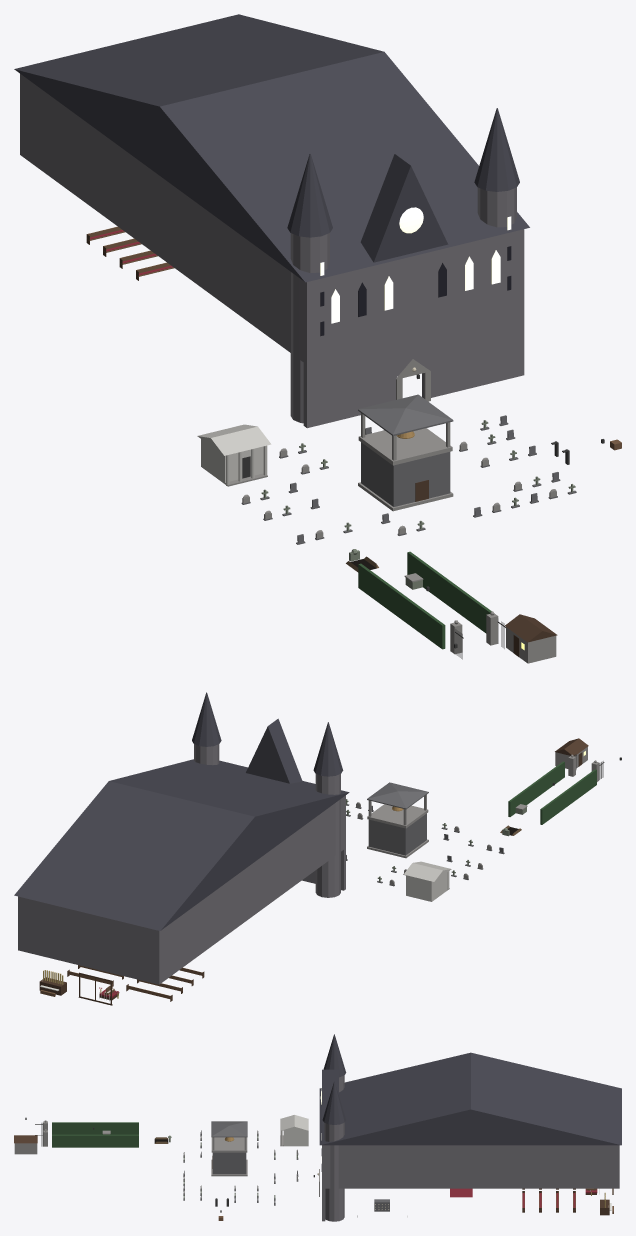
The model's file is the-wake.art.glb.
3 views of the same model, one above another, from view 1: azimuth 30°, elevation 25°; view 2: azimuth 150°, elevation 25°; view 3: azimuth 270°, elevation 25° (orthographic). The views are drawn at different scales.
Parts seen in each view (by area): view 1: art:6:dress.slate, art:6:dress.manor-stone, art:4:dress.manor-stone, art:5:dress.manor-stone, art:3:dress.stone-dark, art:4:dress.slate, art:3:dress.stone, art:2:dress.hedge, art:3:dress.marble, art:5:dress.slate, art:1:dress.stone, art:4:dress.party-window (+2 smaller); view 2: art:6:dress.slate, art:6:dress.manor-stone, art:4:dress.slate, art:3:dress.stone-dark, art:4:dress.manor-stone, art:2:dress.hedge, art:3:dress.marble, art:3:dress.stone, art:5:dress.slate, art:7:dress.wood, art:7:dress.wood-dark, art:1:dress.stone (+1 smaller); view 3: art:6:dress.slate, art:6:dress.manor-stone, art:2:dress.hedge, art:5:dress.manor-stone, art:3:dress.stone-dark, art:4:dress.slate, art:3:dress.stone, art:3:dress.marble, art:5:dress.slate, art:1:dress.stone, art:7:dress.wood-dark.
Part boxes in pixels (x1=…): art:6:dress.slate: x1=14, y1=14, x2=529, y2=282; art:6:dress.manor-stone: x1=20, y1=74, x2=303, y2=361; art:4:dress.manor-stone: x1=290, y1=233, x2=425, y2=428; art:5:dress.manor-stone: x1=422, y1=187, x2=524, y2=398; art:3:dress.stone-dark: x1=241, y1=394, x2=576, y2=544; art:4:dress.slate: x1=287, y1=153, x2=448, y2=262; art:3:dress.stone: x1=225, y1=359, x2=556, y2=538; art:2:dress.hedge: x1=358, y1=551, x2=486, y2=643; art:3:dress.marble: x1=197, y1=424, x2=271, y2=486; art:5:dress.slate: x1=474, y1=108, x2=519, y2=191; art:1:dress.stone: x1=450, y1=611, x2=556, y2=663; art:4:dress.party-window: x1=320, y1=207, x2=423, y2=323; art:6:dress.slate: x1=14, y1=759, x2=349, y2=930; art:6:dress.manor-stone: x1=18, y1=797, x2=343, y2=984; art:4:dress.slate: x1=246, y1=718, x2=343, y2=783; art:3:dress.stone-dark: x1=346, y1=782, x2=504, y2=886; art:4:dress.manor-stone: x1=302, y1=774, x2=345, y2=897; art:2:dress.hedge: x1=508, y1=765, x2=591, y2=824; art:3:dress.marble: x1=403, y1=861, x2=451, y2=901; art:3:dress.stone: x1=356, y1=794, x2=491, y2=890; art:5:dress.slate: x1=192, y1=692, x2=221, y2=746; art:7:dress.wood: x1=40, y1=965, x2=204, y2=999; art:7:dress.wood-dark: x1=39, y1=966, x2=204, y2=1005; art:1:dress.stone: x1=555, y1=747, x2=599, y2=781; art:6:dress.slate: x1=319, y1=1052, x2=621, y2=1145; art:6:dress.manor-stone: x1=325, y1=1145, x2=619, y2=1188; art:2:dress.hedge: x1=59, y1=1122, x2=138, y2=1147; art:5:dress.manor-stone: x1=322, y1=1122, x2=344, y2=1221; art:3:dress.stone-dark: x1=183, y1=1121, x2=298, y2=1205; art:4:dress.slate: x1=322, y1=1034, x2=346, y2=1124; art:3:dress.stone: x1=183, y1=1130, x2=319, y2=1196; art:3:dress.marble: x1=280, y1=1115, x2=308, y2=1146; art:5:dress.slate: x1=322, y1=1081, x2=345, y2=1124; art:1:dress.stone: x1=14, y1=1120, x2=47, y2=1154; art:7:dress.wood-dark: x1=522, y1=1188, x2=613, y2=1215.
Size of the model in its own units: 38.12 by 26.5 by 108.
